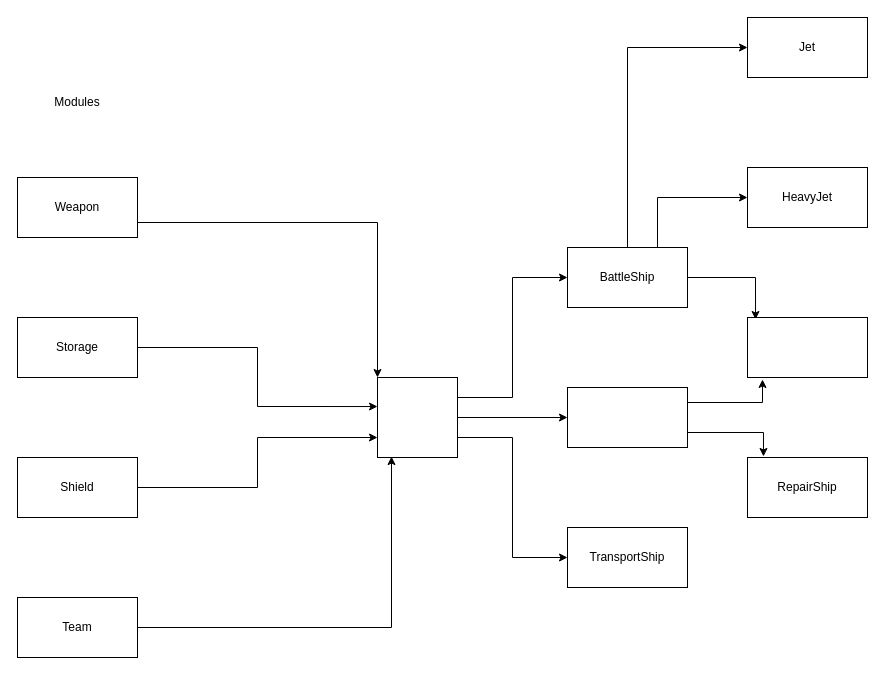
Some shapes in this 885 by 675 pixel diagram are drawn without their labels. The centre of each missing label's shape, as x and y in pixels:
Cruiser: point (807, 347)
Ship: point (417, 417)
SupportShip: point (627, 417)
